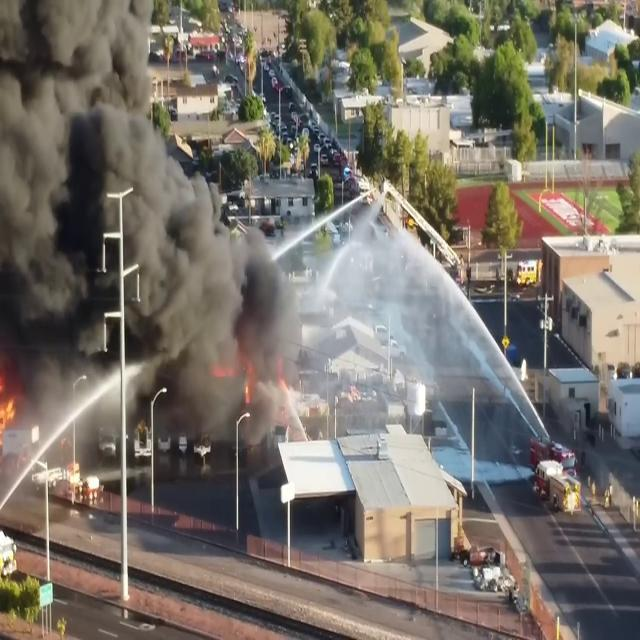Fire: (0, 358, 18, 462)
Smoke: (0, 0, 168, 376)
